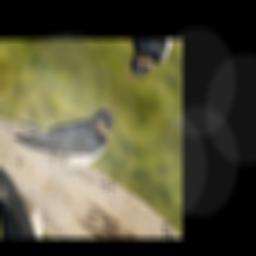Swallow: (4, 65, 124, 189)
